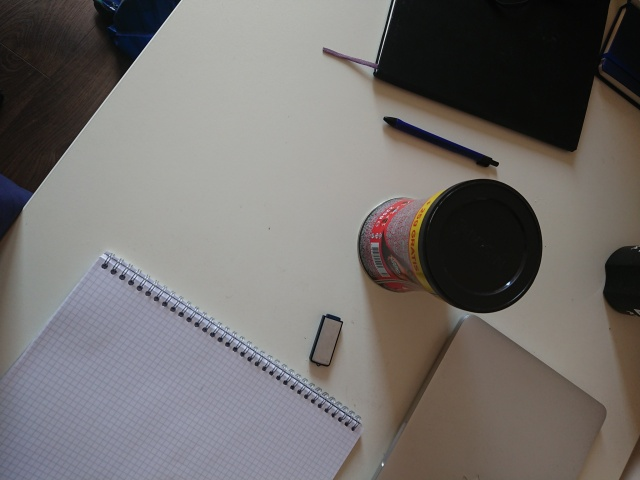Nescafe Classic 225g: (349, 172, 551, 323)
